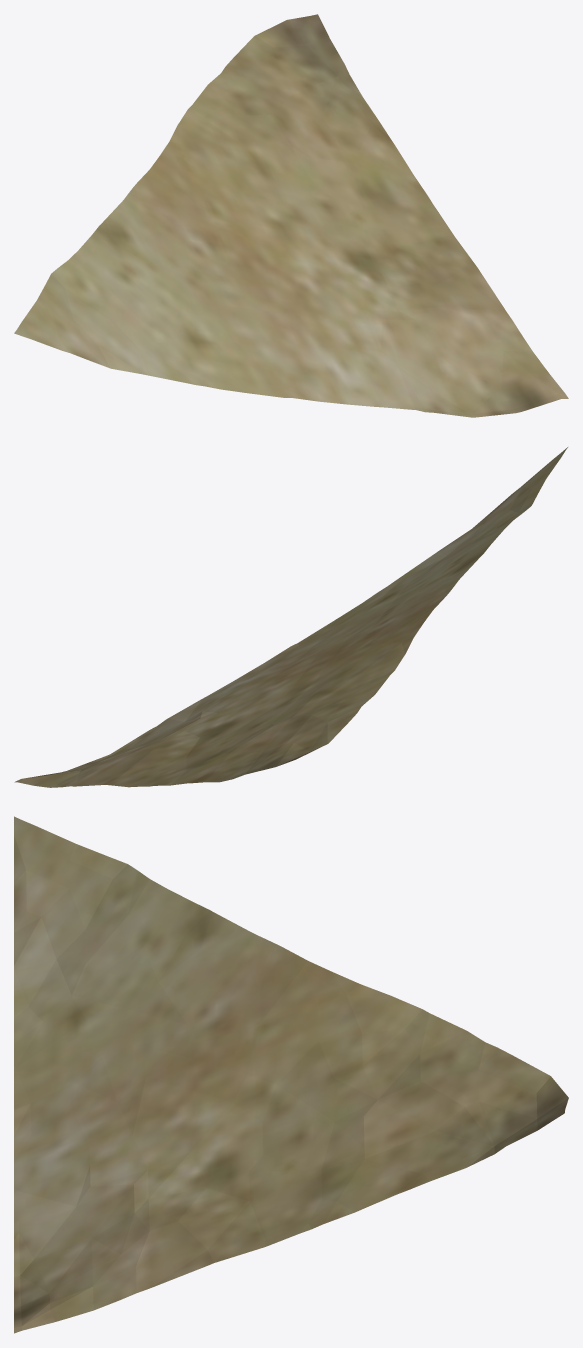
3 views of the same model, one above another, from view 1: azimuth 30°, elevation 25°; view 2: azimuth 210°, elevation 25°; view 3: azimuth 270°, elevation 25° (orthographic). The views are drawn at different scales.
Size of the model in its own units: 49.08 by 17.1 by 38.76.
1 material, 1 textured.
